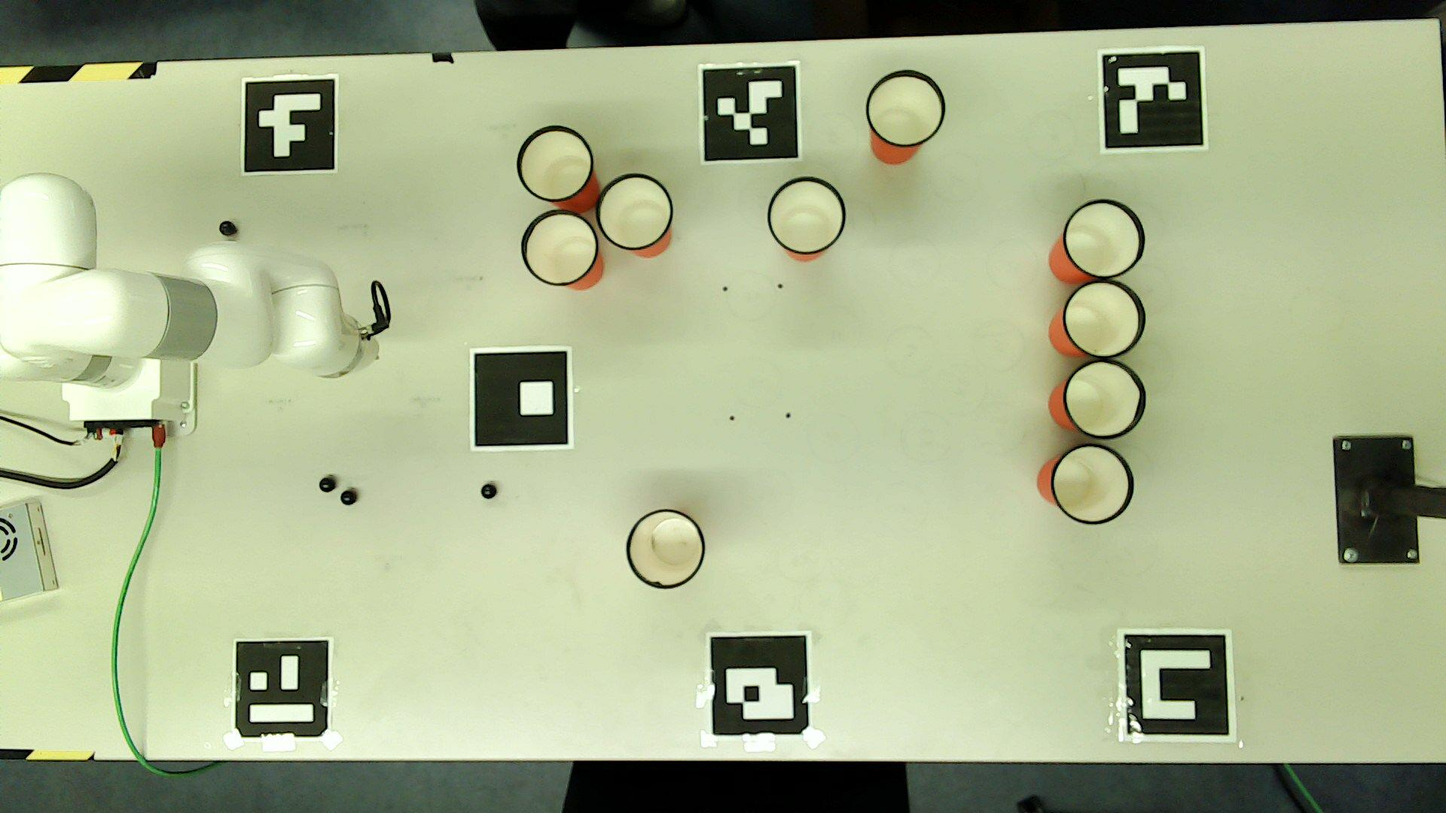ball: (342, 492, 357, 504), (220, 221, 233, 234), (320, 479, 334, 491), (483, 484, 495, 498)
cup: (1053, 444, 1132, 523), (628, 510, 703, 587), (1065, 362, 1142, 437), (1065, 282, 1141, 357), (867, 72, 943, 146), (770, 178, 844, 253), (1066, 202, 1141, 276), (518, 127, 591, 201), (598, 175, 671, 249), (523, 213, 596, 284)
